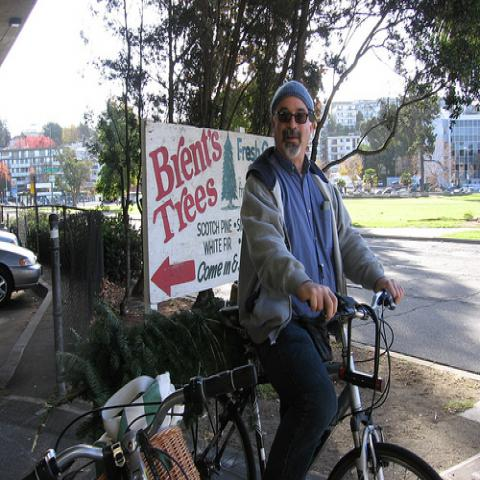car: (1, 242, 42, 308), (0, 230, 19, 246), (378, 180, 384, 186), (348, 190, 354, 195)
